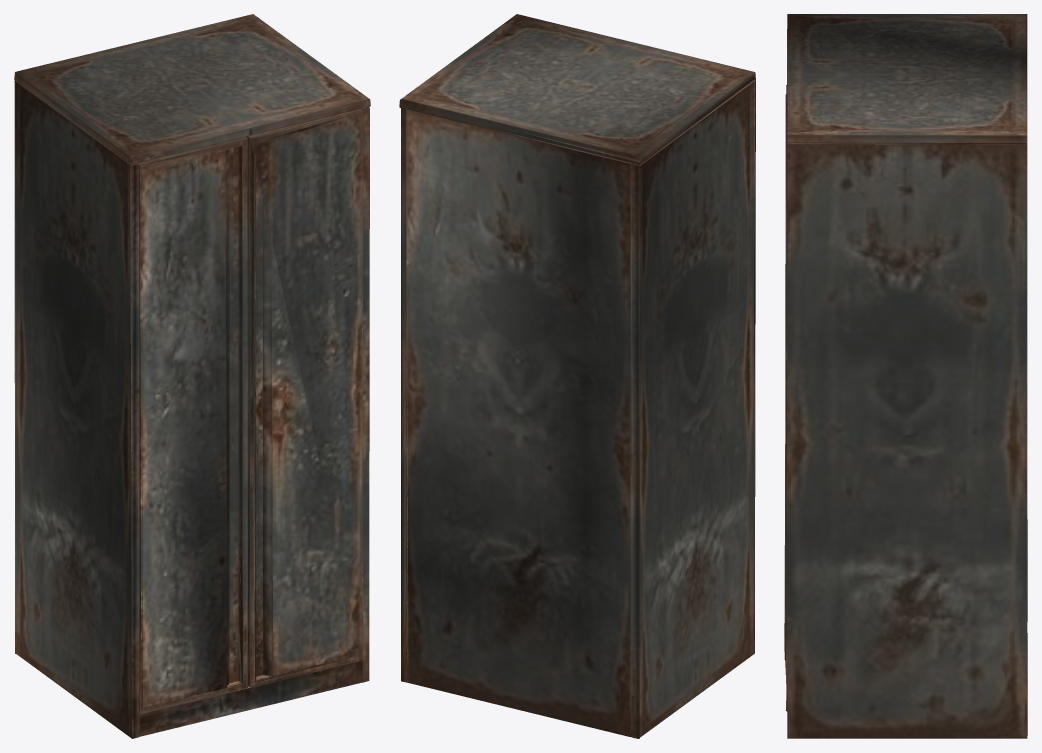
Rendered from cabinet.glb.
The picture shows the model from 3 angles, left to right: view 1: azimuth 30°, elevation 25°; view 2: azimuth 150°, elevation 25°; view 3: azimuth 270°, elevation 25°; orthographic projection. The views are drawn at different scales.
Parts seen in each view (by area): view 1: cabinet; view 2: cabinet; view 3: cabinet.
Boxes of the visible parts, x1,y1,x2,y2 form: cabinet: (14,14,370,738); cabinet: (399,14,755,738); cabinet: (784,14,1027,738).
Size of the model in its own units: 0.8028 by 1.85 by 0.6744.
1 material, 1 textured.
